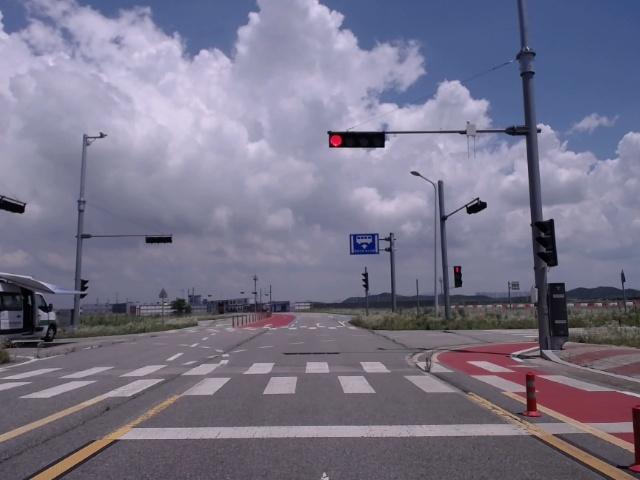red_4: (329, 134, 385, 148)
